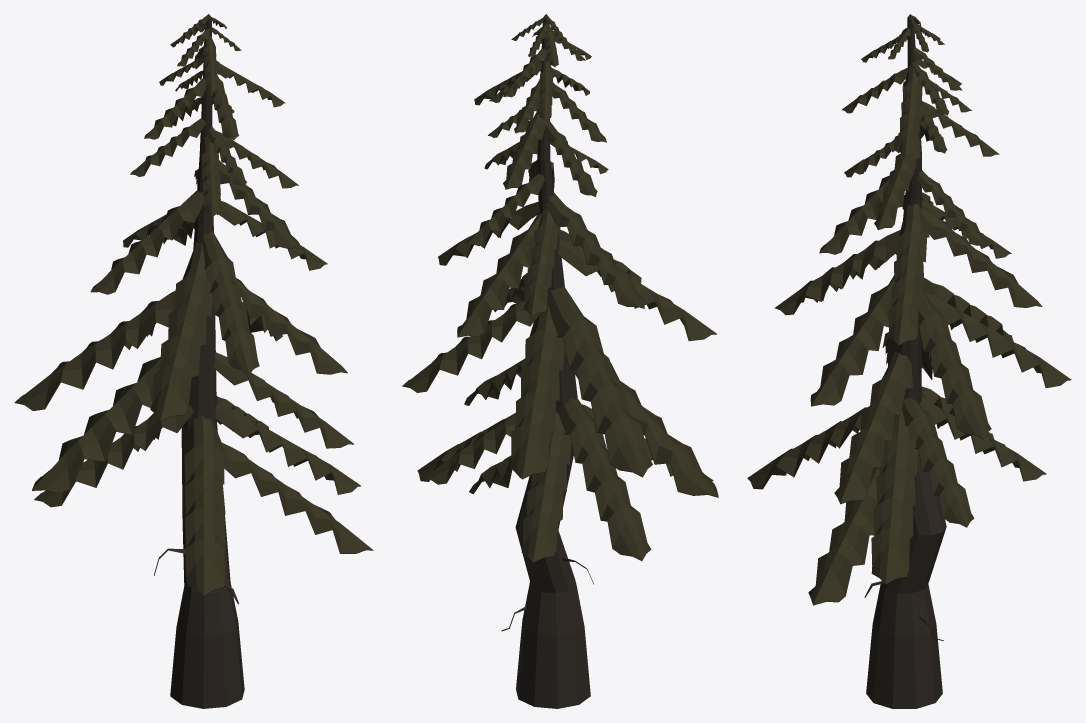
File: tree4.fbx
3 views of the same model, side by side, from view 1: azimuth 30°, elevation 25°; view 2: azimuth 150°, elevation 25°; view 3: azimuth 270°, elevation 25° (orthographic).
Visible parts, largest first — view 1: Plane.056; view 2: Plane.056; view 3: Plane.056.
Boxes of the visible parts, x1,y1,x2,y2 form: Plane.056: (14,14,373,708); Plane.056: (402,14,718,708); Plane.056: (747,14,1071,708).
Bounding box in the file's own units: 626 × 1285 × 555.
